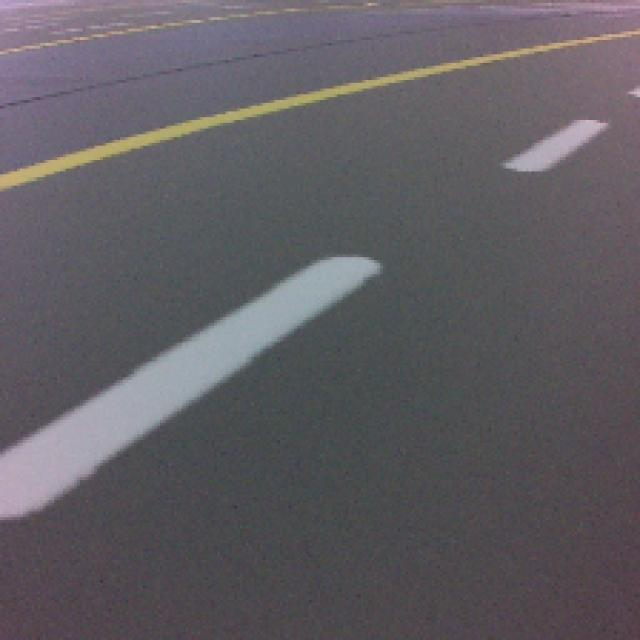Road: (0, 379, 638, 640)
